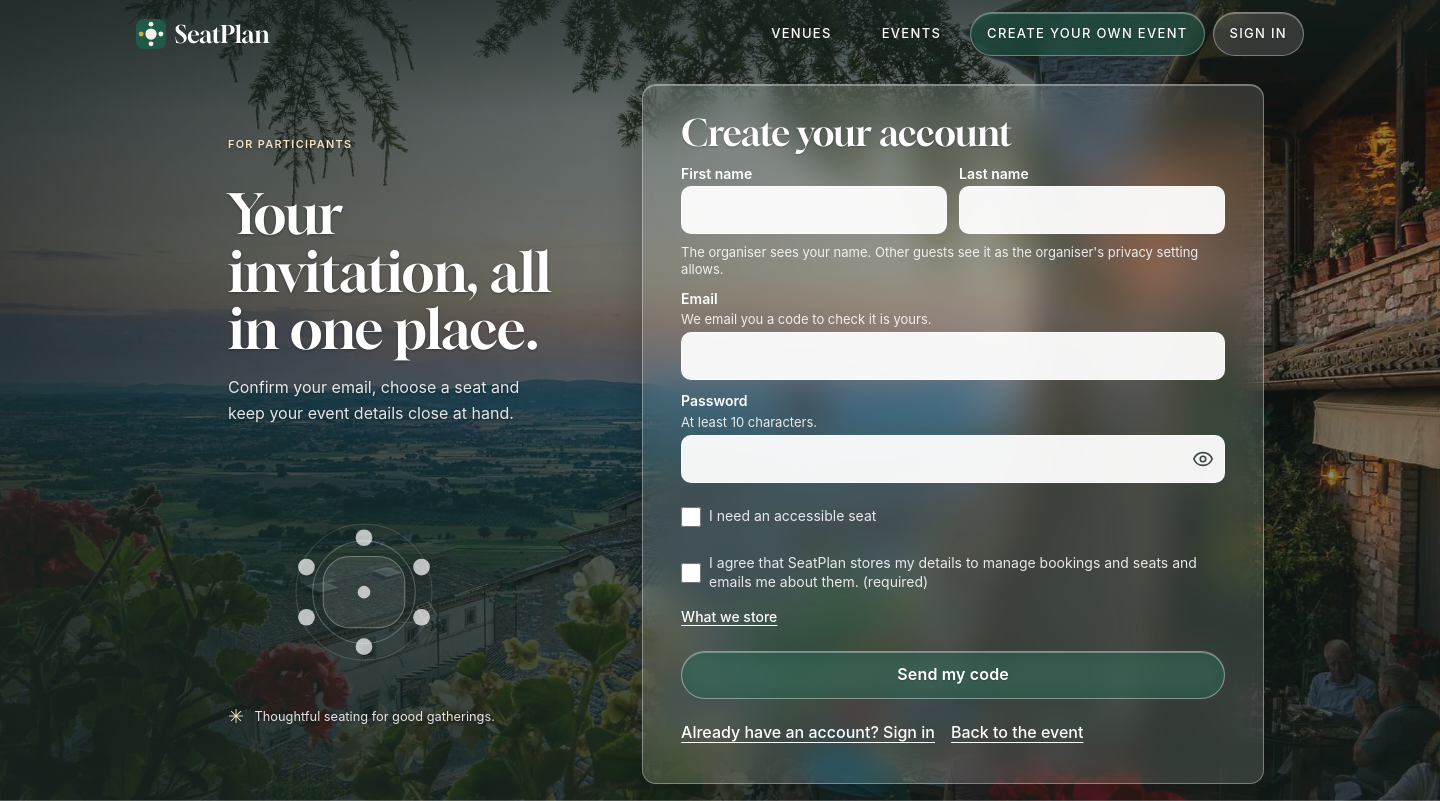
RegisterPage › sends the form, then moves to the code step with its heading focused
The width and height of the screenshot is (1440, 801).
Type "Nina" into the field labelled "First name" at (814, 210), box [681,186,947,234]
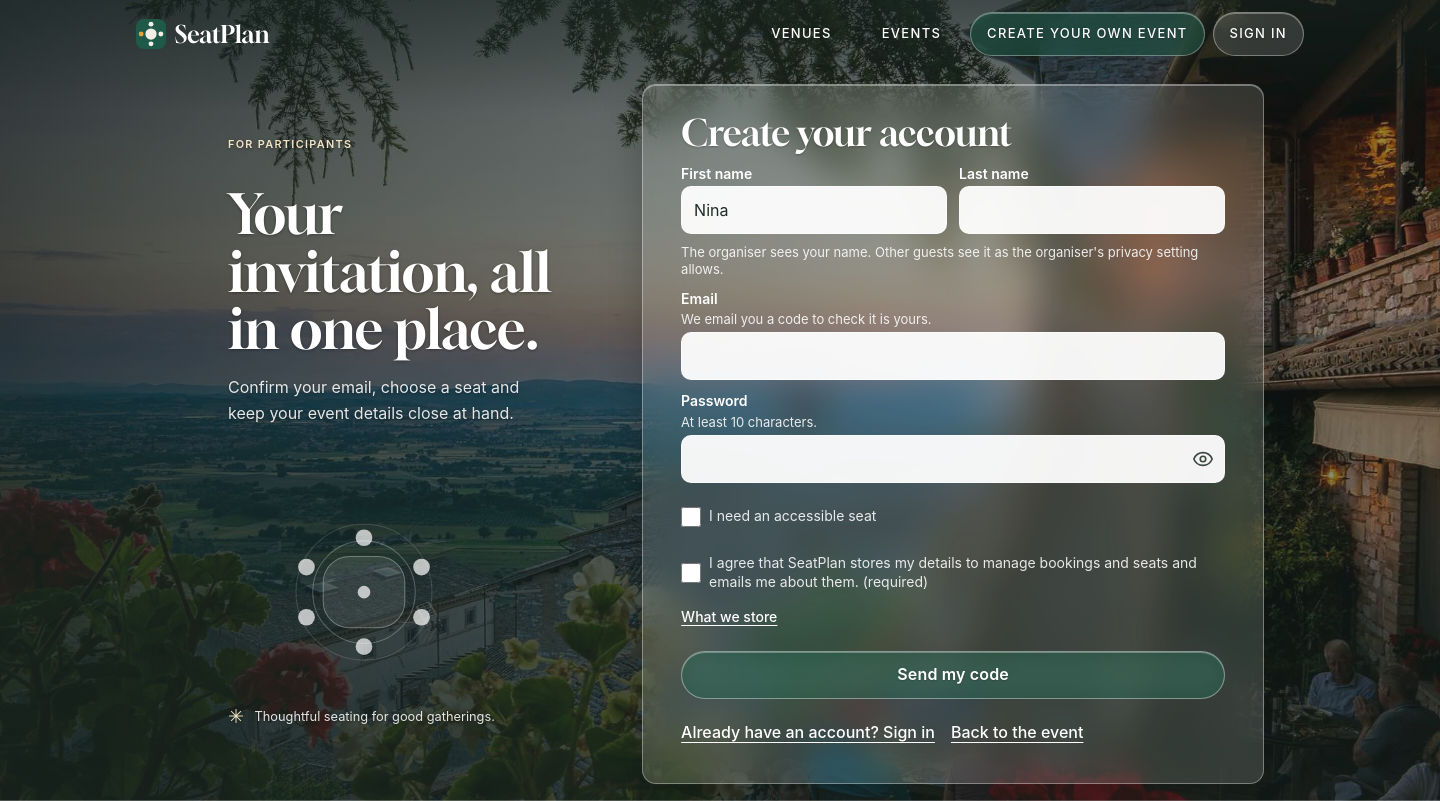
Type "Lopes" into the field labelled "Last name" at (1092, 210), box [959,186,1225,234]
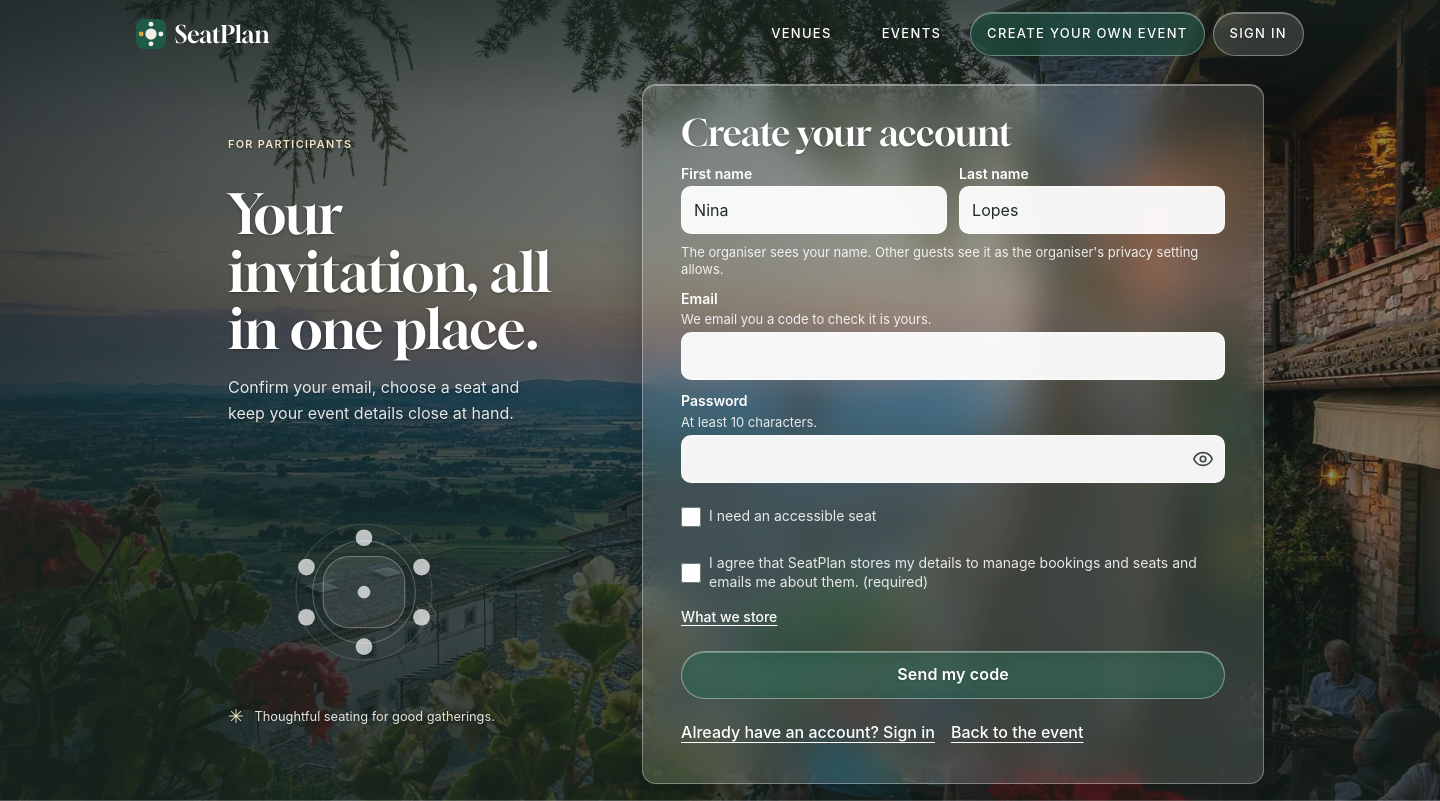
Type "nina@example.com" into the field labelled "Email" at (953, 356), box [681,332,1225,380]
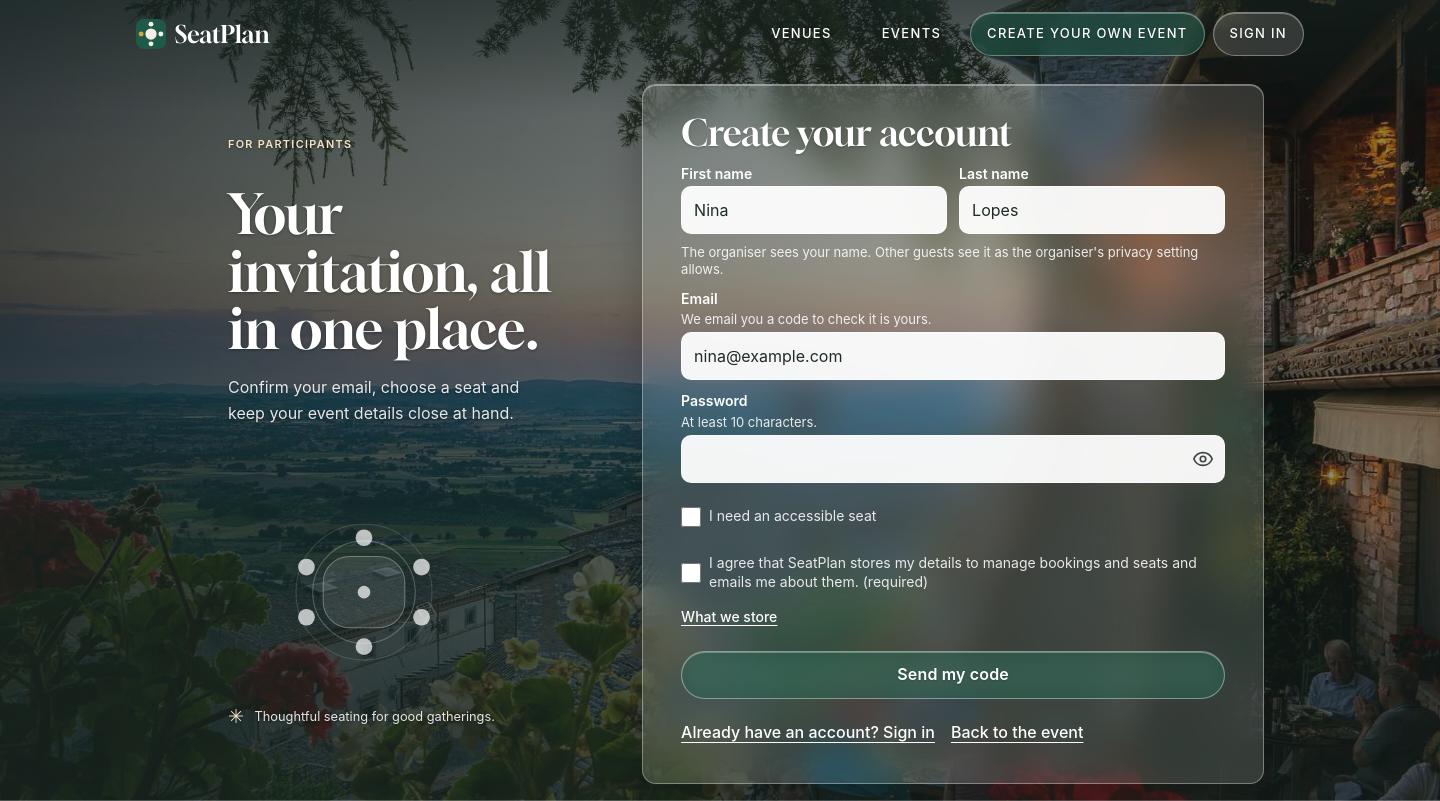
Type "a long password" into the password field labelled "Password" at (953, 459), box [681,435,1225,483]
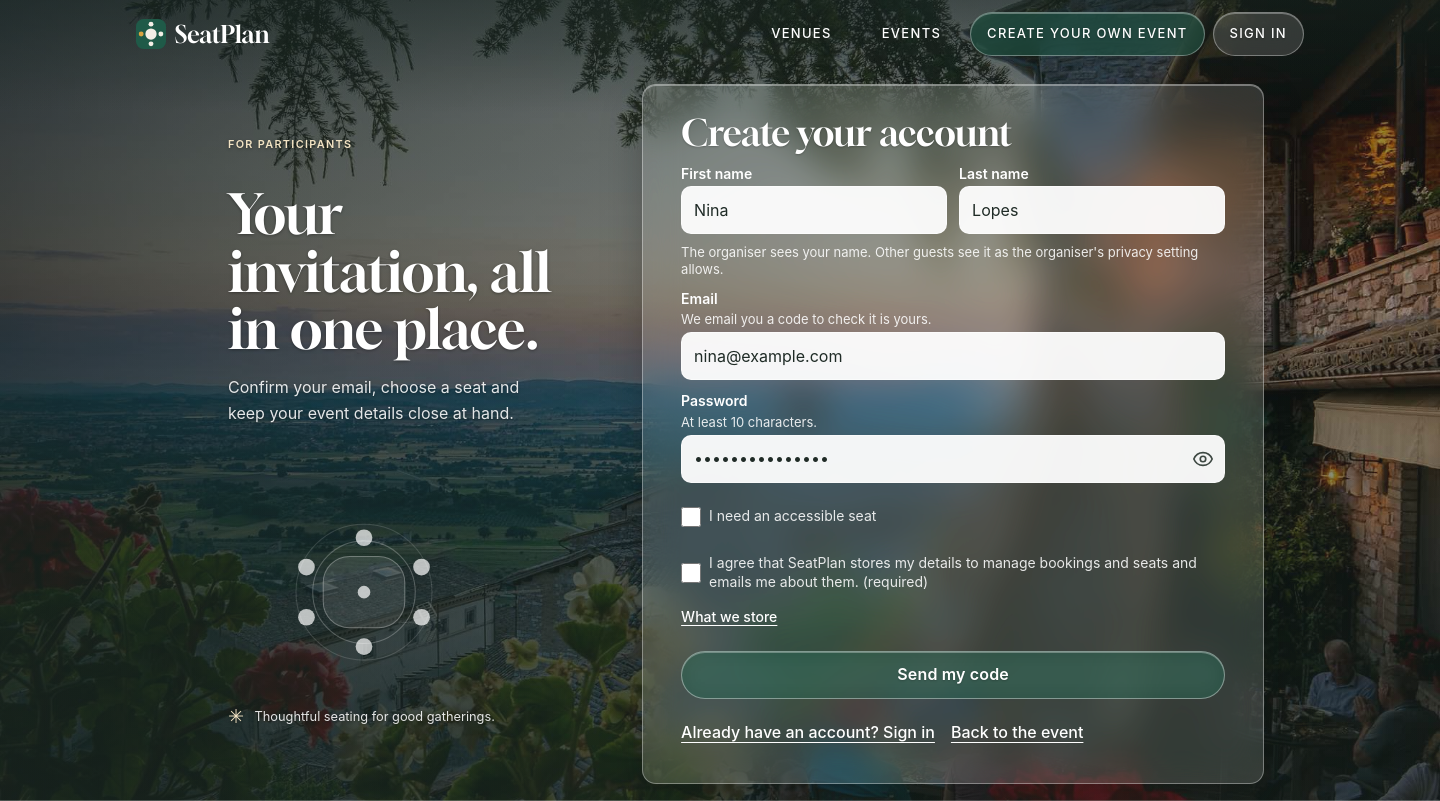
Click the checkbox labelled "I agree that SeatPlan stores my details" at (691, 573), box [681,563,701,583]
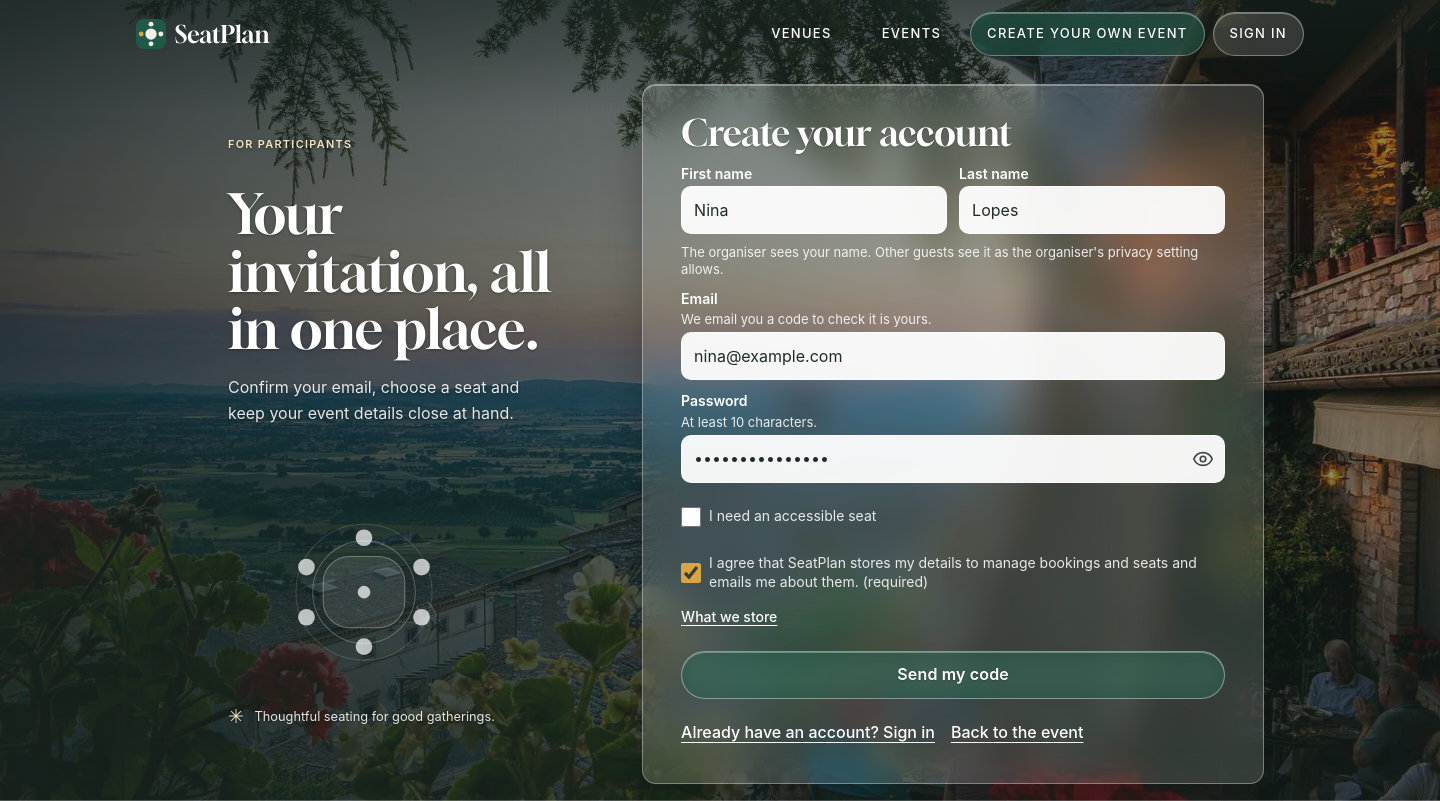
Click the button "Send my code" at (953, 675), box [681,651,1225,699]
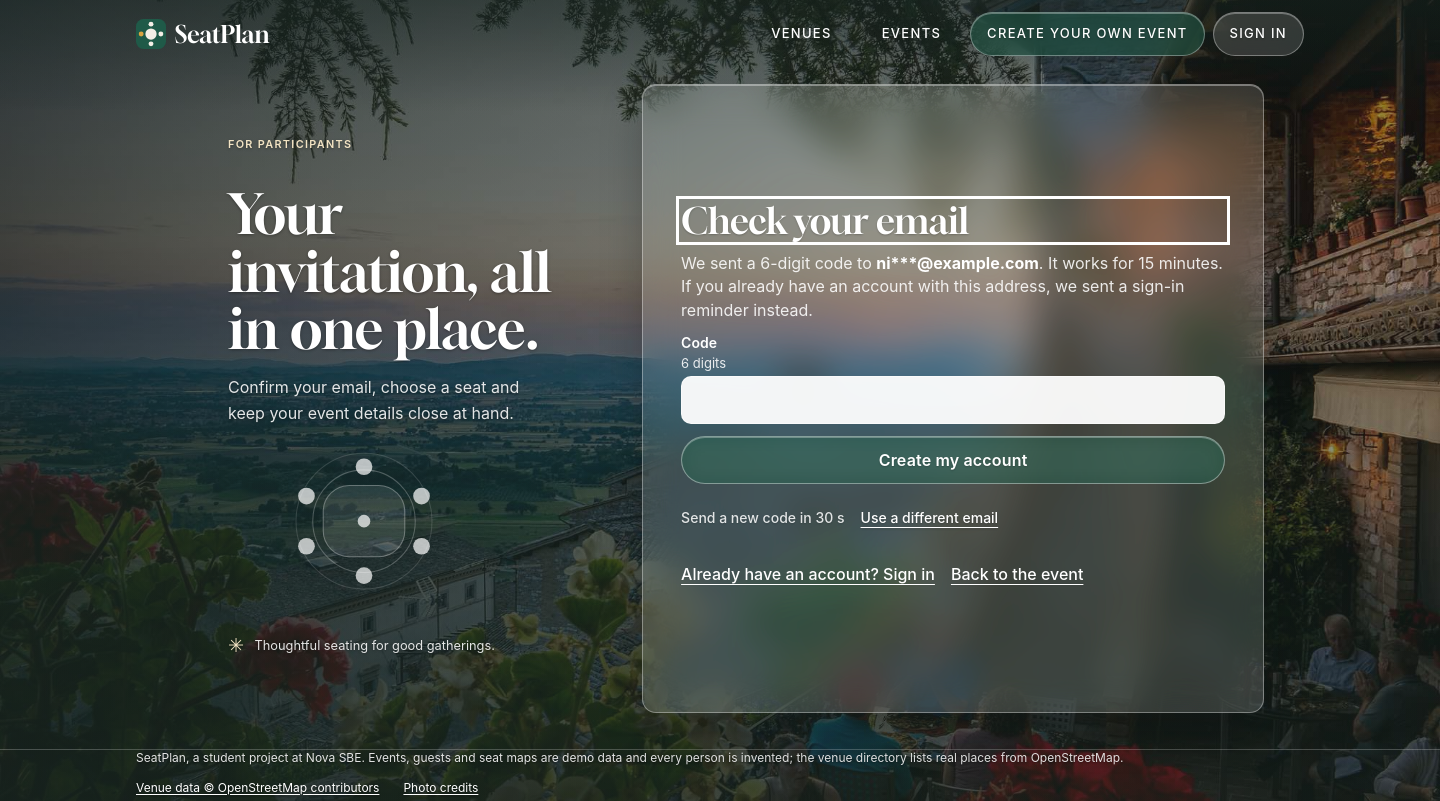
Expected: the heading "Check your email" is shown, [681,198,968,242]
Expected: the text "ni***@example.com" is shown, [876,253,1039,273]
Expected: the button "Send a new code in 30 s" is disabled, [681,496,844,540]
